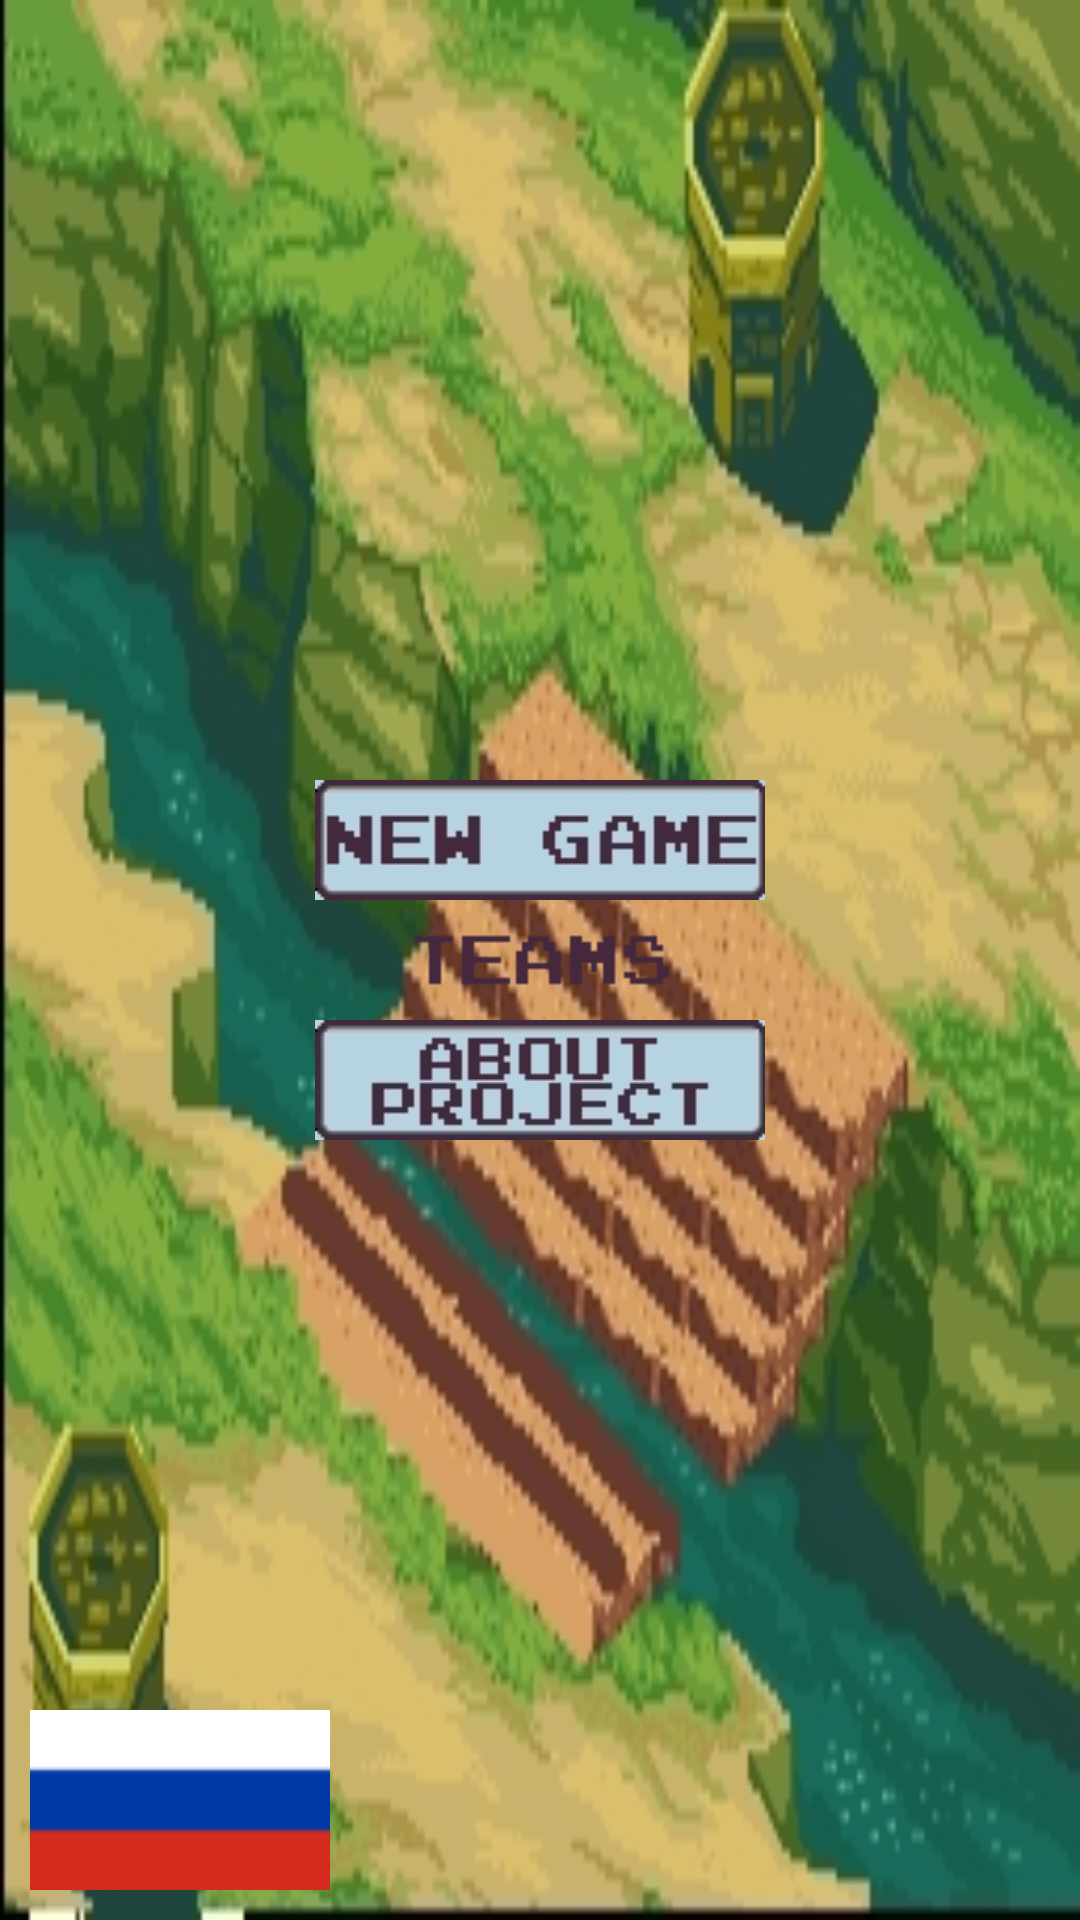

Point at icon controls on the screen. Image size 1080×1920, points as (x=x, y=y).
russia: (x=180, y=1800)
